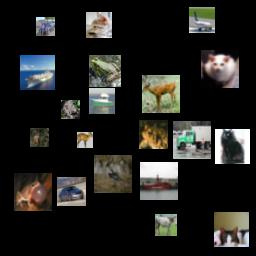airplane: (189, 7, 215, 33)
automobile: (57, 177, 86, 206)
bird: (94, 155, 132, 193)
cat: (201, 50, 239, 88), (214, 212, 249, 247), (215, 129, 250, 164), (86, 12, 112, 38)
deer: (142, 75, 180, 113), (30, 128, 49, 147), (77, 132, 93, 148)
frog: (14, 173, 52, 211), (89, 55, 121, 87), (139, 120, 168, 149), (61, 100, 80, 119)
ship: (140, 162, 178, 200), (20, 55, 55, 90), (89, 88, 115, 114)
truck: (173, 121, 211, 159), (36, 17, 55, 36)
